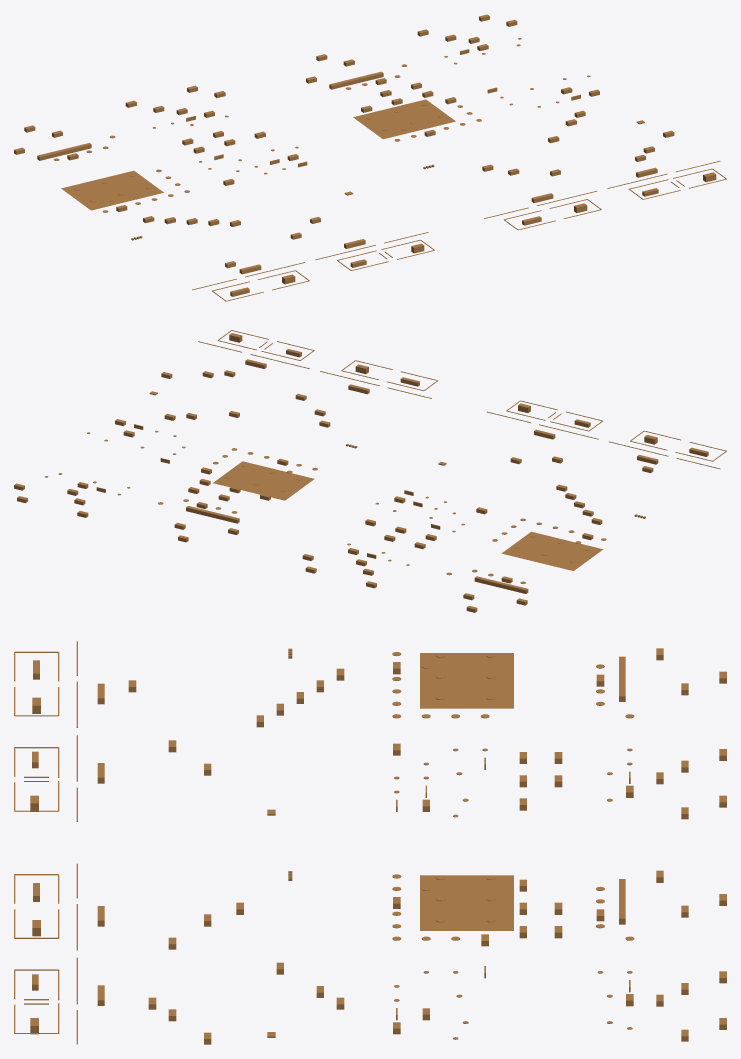
Rendered from wood_light.dae.
The picture shows the model from 3 angles, top to bottom: view 1: azimuth 30°, elevation 25°; view 2: azimuth 150°, elevation 25°; view 3: azimuth 270°, elevation 25°; orthographic projection. The views are drawn at different scales.
Parts seen in each view (by area): view 1: wood_light; view 2: wood_light; view 3: wood_light.
Boxes of the visible parts, left/top/right/bottom form: wood_light: left=14, top=14, right=726, bottom=301; wood_light: left=14, top=330, right=726, bottom=612; wood_light: left=14, top=641, right=726, bottom=1044.
Bounding box in the file's own units: 152 × 114 × 1.5.
